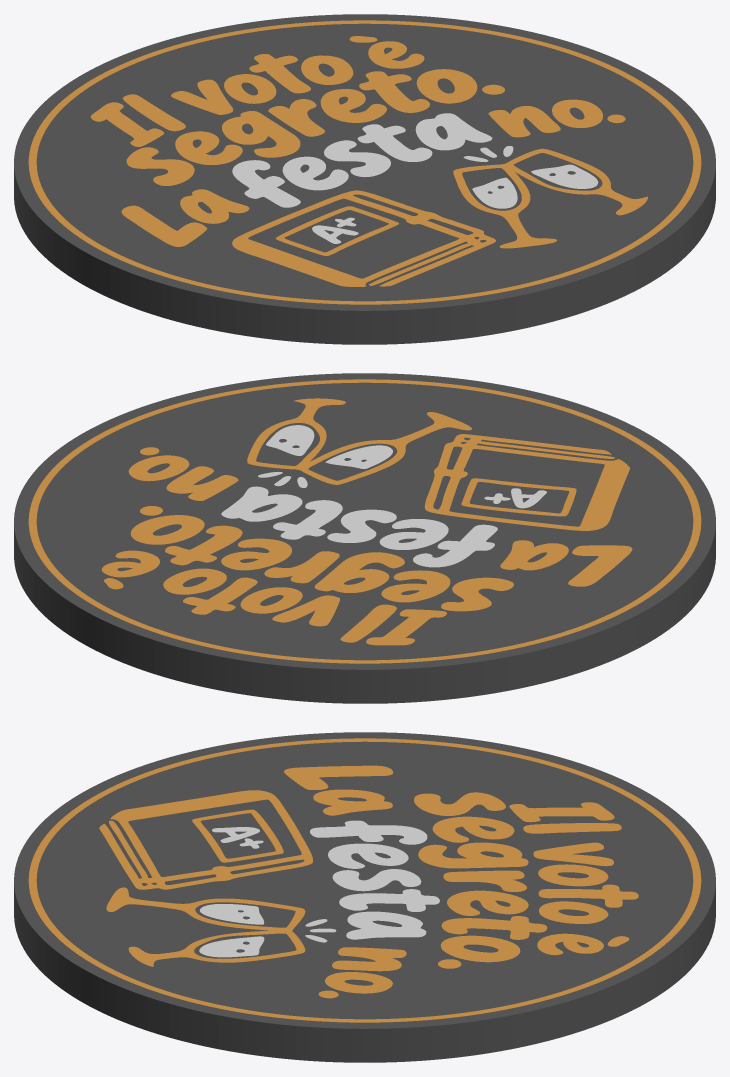
Rendered from sottobicchiere-voto-segreto.glb.
3 views of the same model, one above another, from view 1: azimuth 30°, elevation 25°; view 2: azimuth 150°, elevation 25°; view 3: azimuth 270°, elevation 25° (orthographic).
Parts seen in each view (by area): view 1: coaster_base, coaster_ink, coaster_accent; view 2: coaster_base, coaster_ink, coaster_accent; view 3: coaster_base, coaster_ink, coaster_accent.
Part boxes in pixels (box(x1,y1,x2,y2)): coaster_base: box(14, 14, 715, 344); coaster_ink: box(28, 20, 701, 304); coaster_accent: box(232, 113, 598, 243); coaster_base: box(14, 373, 715, 703); coaster_ink: box(28, 379, 701, 663); coaster_accent: box(221, 425, 546, 567); coaster_base: box(14, 732, 715, 1062); coaster_ink: box(28, 738, 701, 1022); coaster_accent: box(199, 820, 439, 957).
Size of the model in its own units: 0.075 by 0.004 by 0.075.
